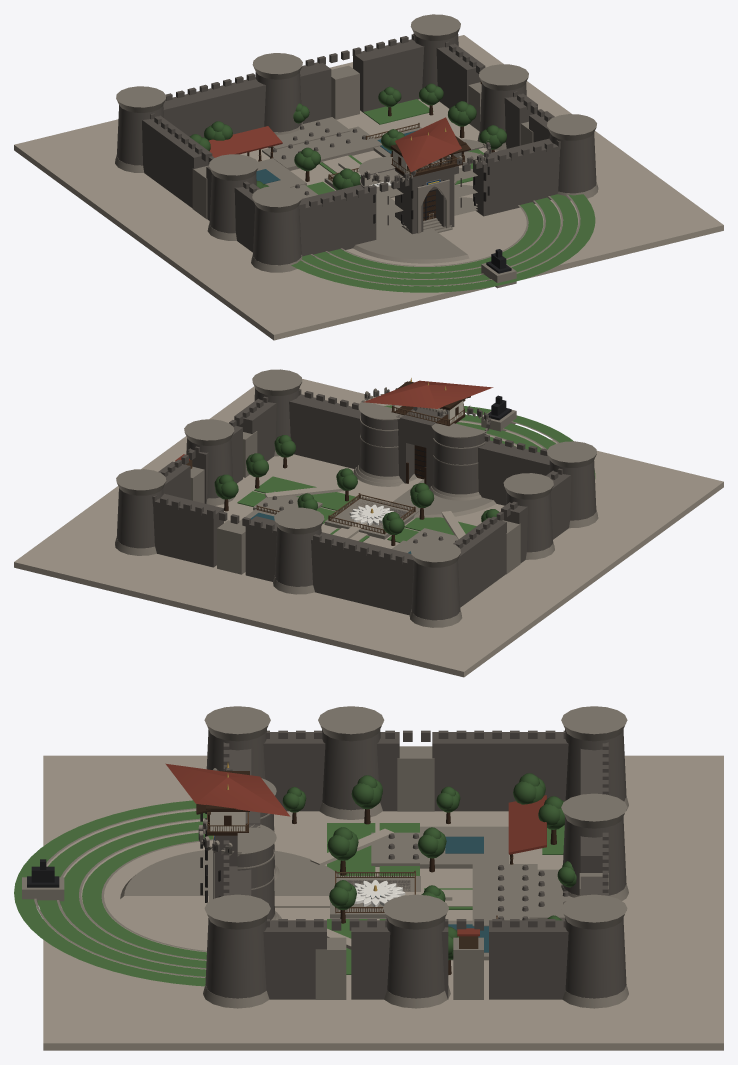
File: shaniwar-wada-exterior.glb
The picture shows the model from 3 angles, top to bottom: view 1: azimuth 30°, elevation 25°; view 2: azimuth 150°, elevation 25°; view 3: azimuth 270°, elevation 25°; orthographic projection. The views are drawn at different scales.
Visible parts, largest first — view 1: object 1, Citadel_Perimeter_Fortifications_And_Gates, Northern_Forecourt_Amphitheater, Citadel_Royal_Gardens_Complex, Palace_Plinth_Ruins, Nagarkhana_Balcony_Gallery, Dilli_Darwaza_Portal_Chamber, NW_Corner_Bastion, West_Monumental_Bastion, NE_Corner_Bastion, South_Mid_Bastion, Chiman_Baug_Arcaded_Verandah (+8 smaller); view 2: object 1, Citadel_Perimeter_Fortifications_And_Gates, Citadel_Royal_Gardens_Complex, Northern_Forecourt_Amphitheater, West_Monumental_Bastion, East_Monumental_Bastion, Nagarkhana_Balcony_Gallery, SW_Corner_Bastion, Dilli_Darwaza_Portal_Chamber, Hazari_Karanje_16_Petal_Lotus, SE_Corner_Bastion, South_Mid_Bastion (+8 smaller); view 3: object 1, Citadel_Perimeter_Fortifications_And_Gates, Northern_Forecourt_Amphitheater, Citadel_Royal_Gardens_Complex, Palace_Plinth_Ruins, Nagarkhana_Balcony_Gallery, SE_Corner_Bastion, NE_Corner_Bastion, East_Mid_Bastion, West_Mid_Bastion, East_Monumental_Bastion, Chiman_Baug_Complex (+9 smaller).
Boxes of the visible parts, x1=… form: object 1: x1=14, y1=35, x2=723, y2=340; Citadel_Perimeter_Fortifications_And_Gates: x1=115, y1=14, x2=598, y2=272; Northern_Forecourt_Amphitheater: x1=291, y1=161, x2=595, y2=292; Citadel_Royal_Gardens_Complex: x1=189, y1=83, x2=506, y2=200; Palace_Plinth_Ruins: x1=262, y1=117, x2=382, y2=198; Nagarkhana_Balcony_Gallery: x1=390, y1=117, x2=470, y2=177; Dilli_Darwaza_Portal_Chamber: x1=395, y1=159, x2=454, y2=234; NW_Corner_Bastion: x1=253, y1=205, x2=301, y2=265; West_Monumental_Bastion: x1=358, y1=157, x2=417, y2=232; NE_Corner_Bastion: x1=549, y1=133, x2=596, y2=193; South_Mid_Bastion: x1=255, y1=72, x2=301, y2=132; Chiman_Baug_Arcaded_Verandah: x1=208, y1=126, x2=282, y2=161; object 1: x1=14, y1=379, x2=723, y2=677; Citadel_Perimeter_Fortifications_And_Gates: x1=115, y1=369, x2=598, y2=627; Citadel_Royal_Gardens_Complex: x1=214, y1=435, x2=498, y2=545; Northern_Forecourt_Amphitheater: x1=265, y1=395, x2=595, y2=539; West_Monumental_Bastion: x1=429, y1=405, x2=490, y2=500; East_Monumental_Bastion: x1=353, y1=387, x2=417, y2=486; Nagarkhana_Balcony_Gallery: x1=363, y1=378, x2=493, y2=425; SW_Corner_Bastion: x1=411, y1=560, x2=460, y2=620; Dilli_Darwaza_Portal_Chamber: x1=396, y1=407, x2=446, y2=487; Hazari_Karanje_16_Petal_Lotus: x1=324, y1=493, x2=419, y2=539; SE_Corner_Bastion: x1=116, y1=488, x2=163, y2=548; South_Mid_Bastion: x1=275, y1=526, x2=321, y2=586; object 1: x1=43, y1=755, x2=723, y2=1050; Citadel_Perimeter_Fortifications_And_Gates: x1=203, y1=706, x2=628, y2=1008; Northern_Forecourt_Amphitheater: x1=14, y1=800, x2=452, y2=986; Citadel_Royal_Gardens_Complex: x1=274, y1=773, x2=576, y2=974; Palace_Plinth_Ruins: x1=371, y1=832, x2=573, y2=926; Nagarkhana_Balcony_Gallery: x1=165, y1=762, x2=290, y2=835; SE_Corner_Bastion: x1=565, y1=917, x2=626, y2=998; NE_Corner_Bastion: x1=205, y1=918, x2=266, y2=998; East_Mid_Bastion: x1=386, y1=917, x2=445, y2=998; West_Mid_Bastion: x1=322, y1=729, x2=380, y2=810; East_Monumental_Bastion: x1=198, y1=819, x2=281, y2=920; Chiman_Baug_Complex: x1=420, y1=826, x2=509, y2=868.
Size of the model in its own units: 84 by 18.3 by 87.6.
